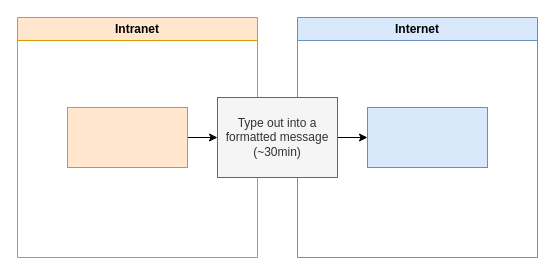
Image size: 555x275. Some labels were removed from this diagram. The shapes that lost their labels are listed below. From the top down, each one's centre as x and y in pixels, then its label:
pixel 127 137: Planned Manpower (Excel)
pixel 427 137: Disseminate
